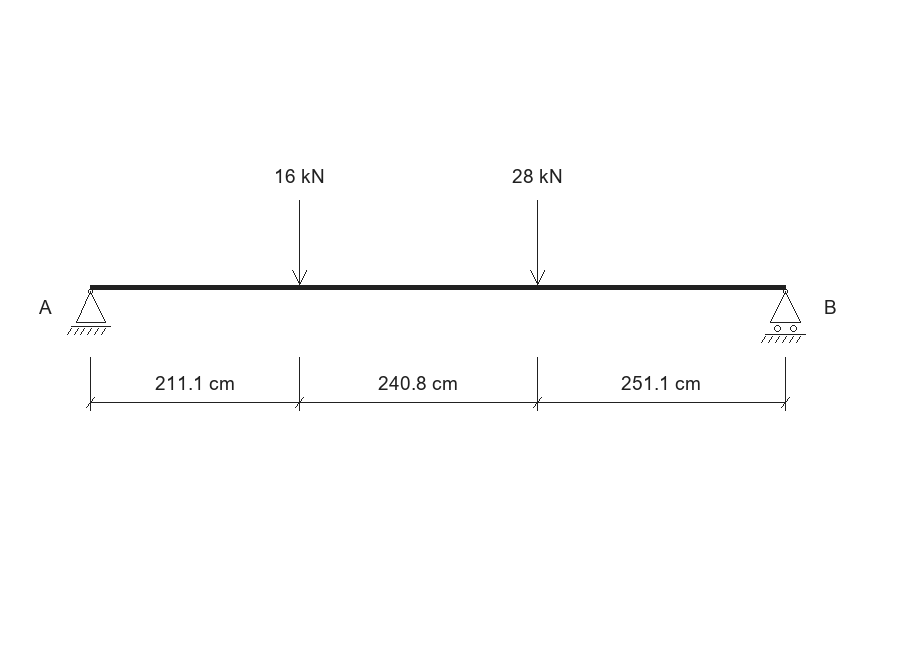pin_support: (67, 289, 111, 335)
point_load: (292, 200, 307, 285), (530, 200, 545, 285)
roller_support: (761, 289, 806, 343)
